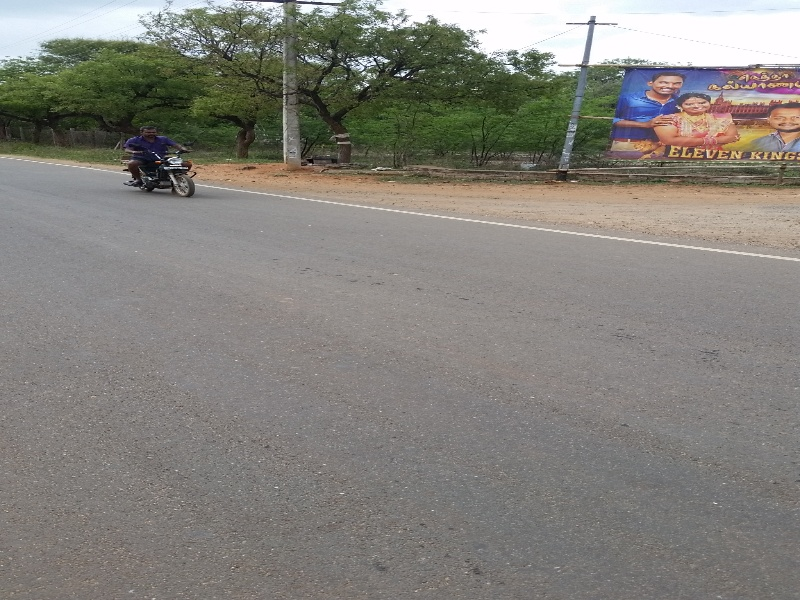biker: (104, 99, 217, 206)
nohelmet: (136, 114, 164, 145)
